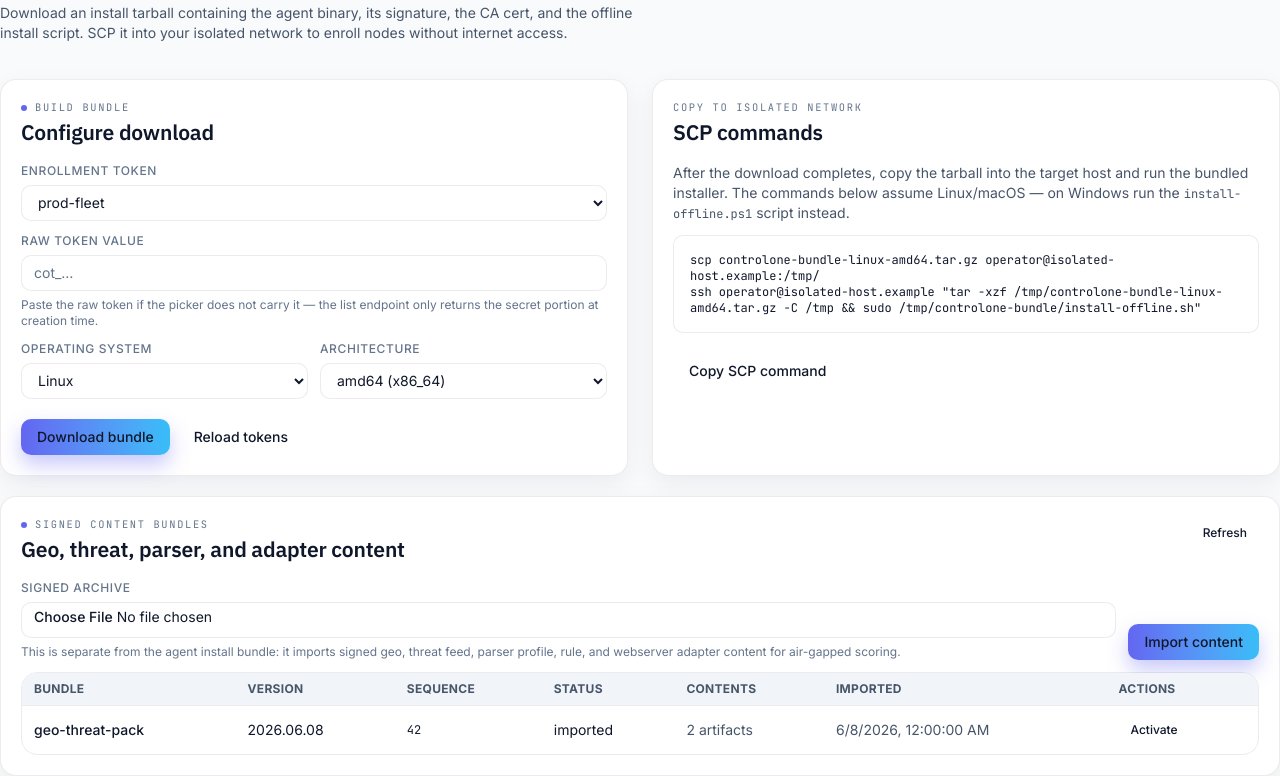
it: OfflineBundle › keeps failed signed-content activation visible in the modal
(page scrolled)
Click the button with aria-label "Activate offline content bundle geo-threat-pack sequence 42". click: (1154, 730)
box: [1118,714,1190,746]
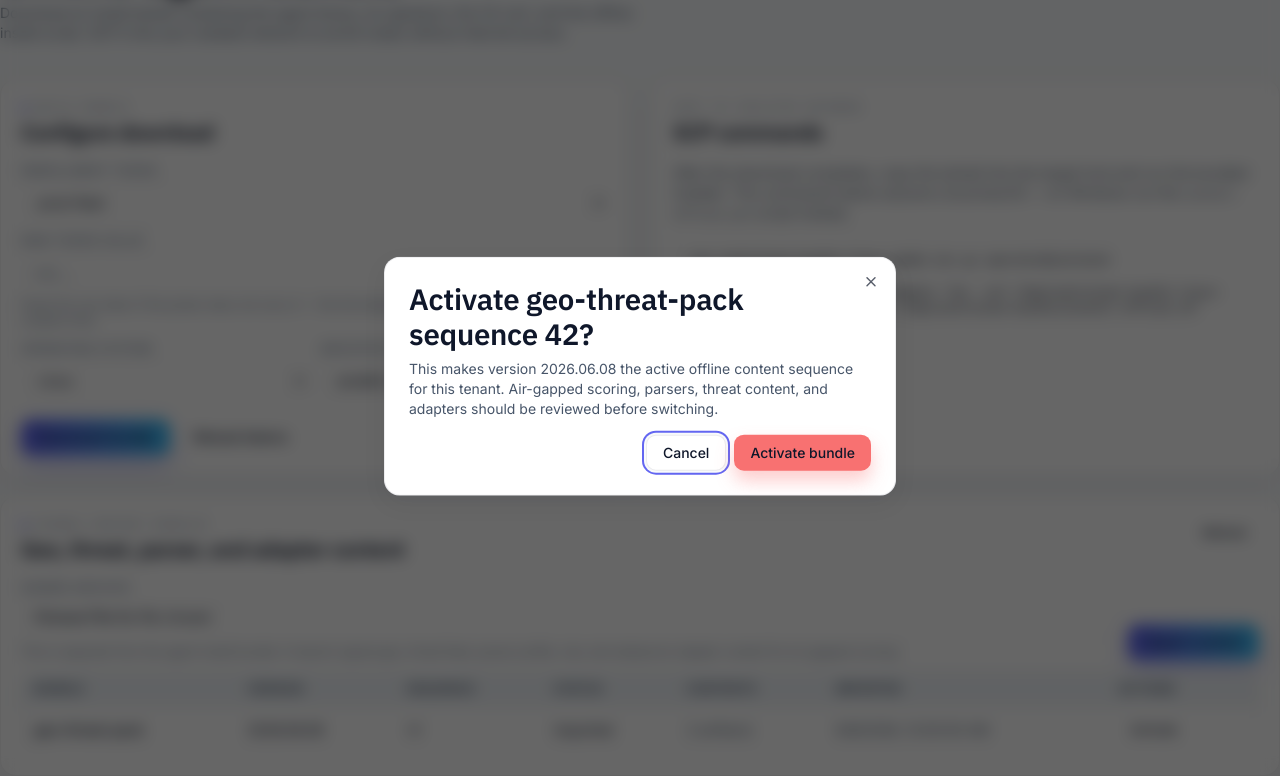
Click the button "Activate bundle". click: (803, 452)
box: [734,434,871,470]
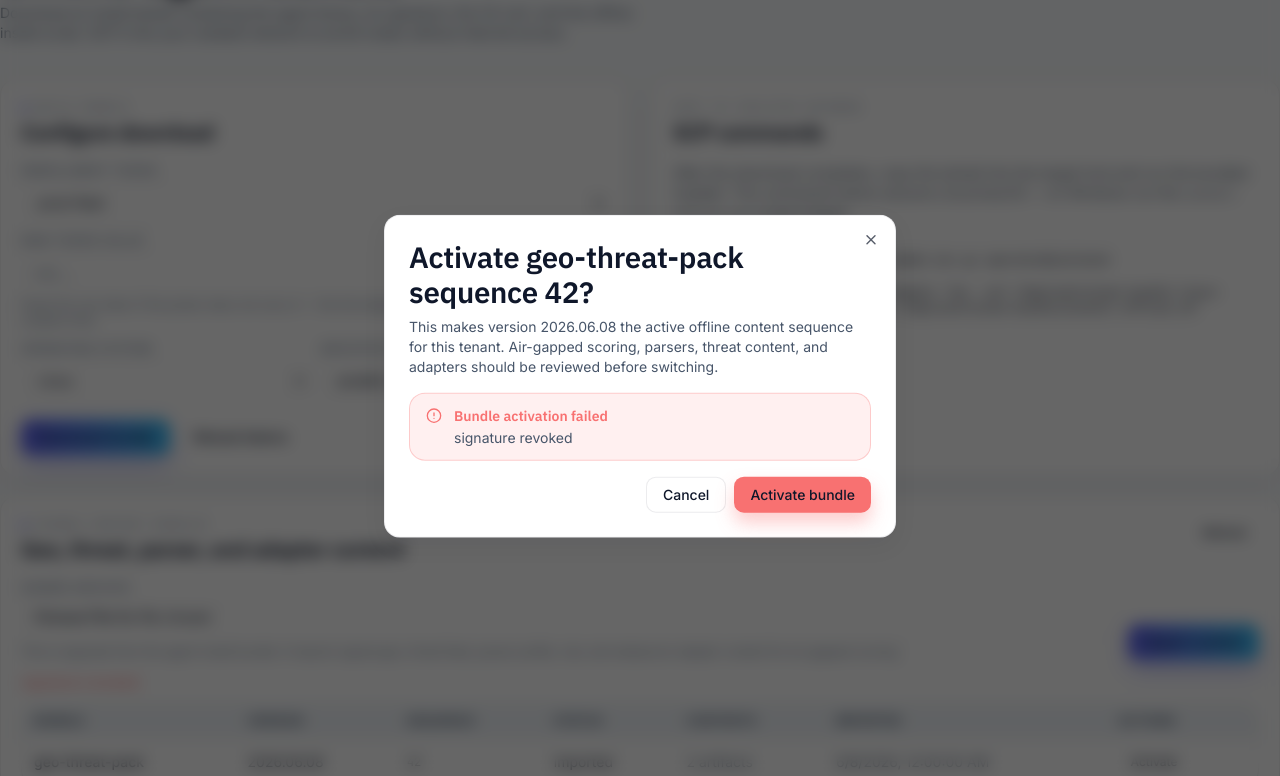
Check: the dialog "Activate geo-threat-pack sequence 42?" is shown, box [384,215,896,537]
Check: the text "Bundle activation failed" is shown, box [454,406,608,424]
Check: the message shows "signature revoked", box [454,428,572,445]
